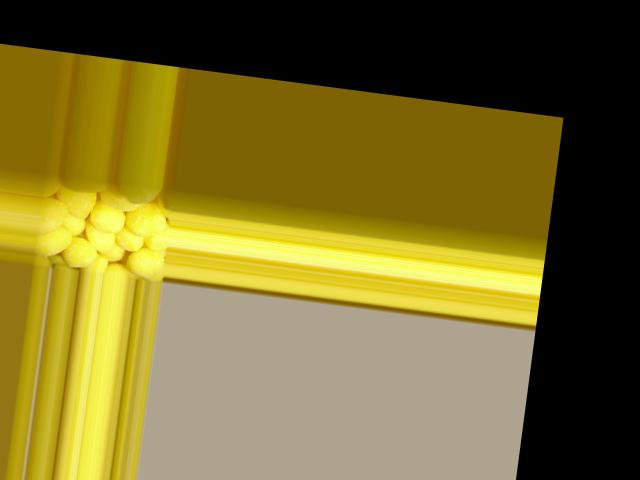lemon: (52, 235, 102, 272)
